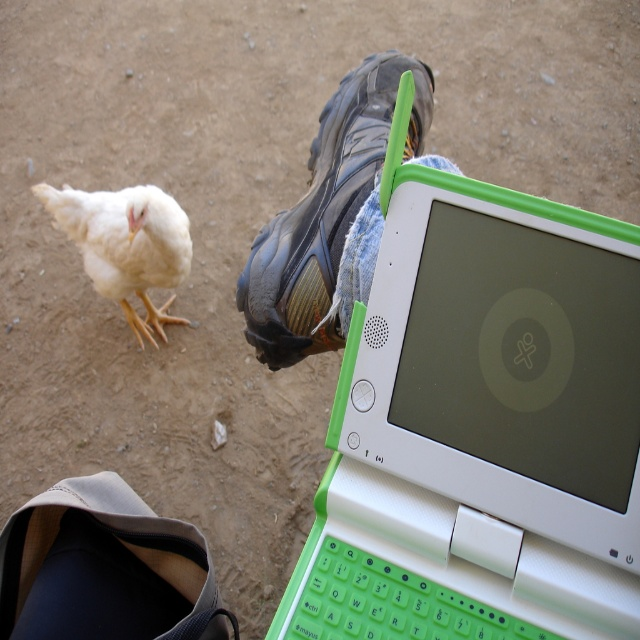Chicken: (36, 182, 192, 347)
